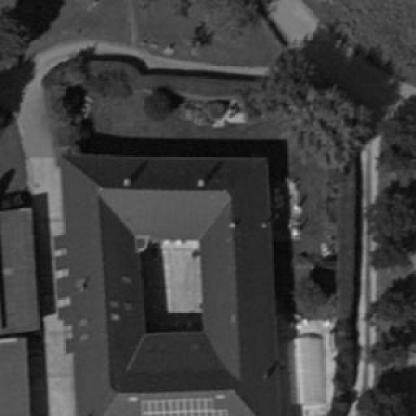solar-pv-panel: (141, 399, 227, 416)
